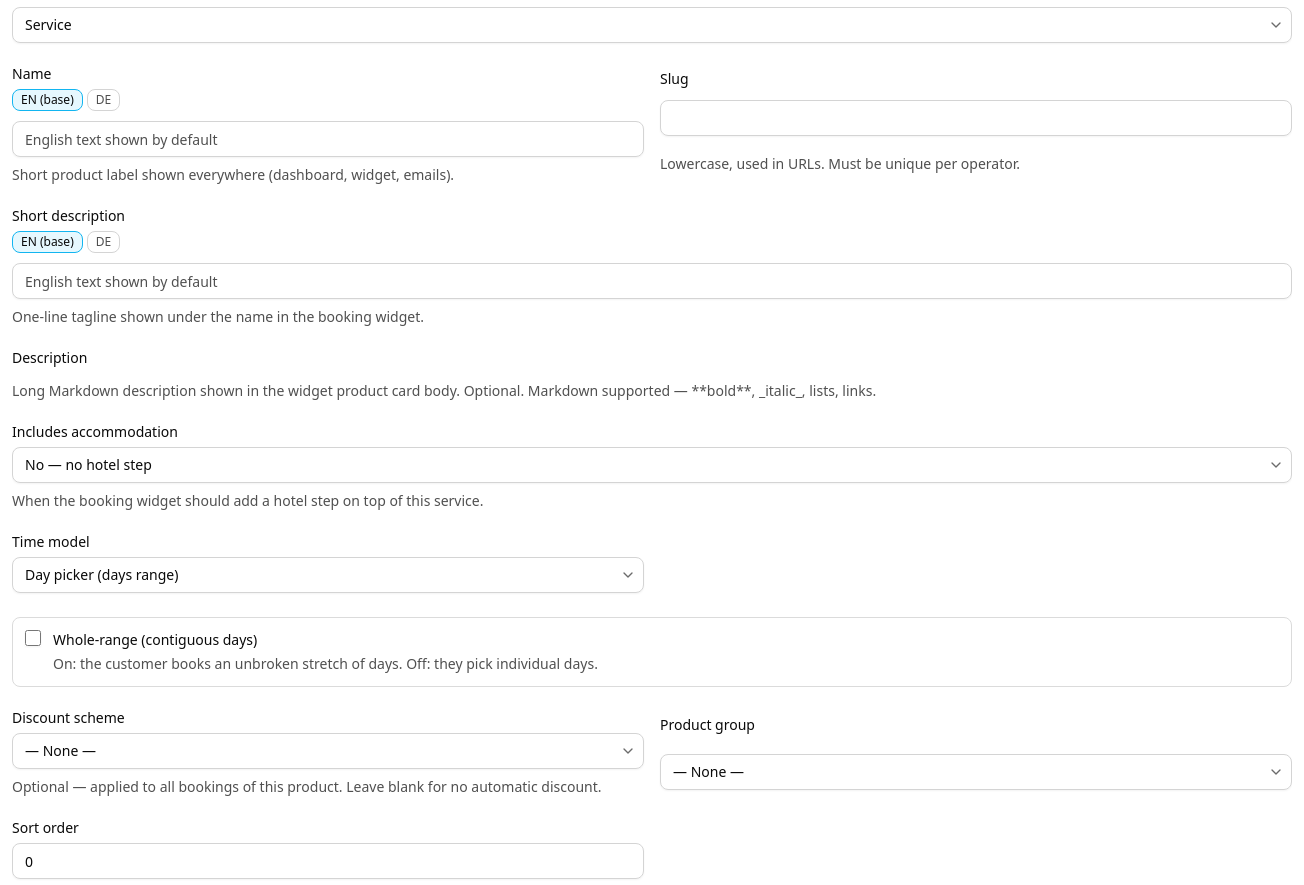
Test: ProductForm — package gating (landr-5eb) › renders the "Coming soon" placeholder for non-service kinds
Select "Gift card" in the dropdown labelled "Product kind" at point(652, 25), box x1=12 y1=7 x2=1292 y2=43
(page scrolled)
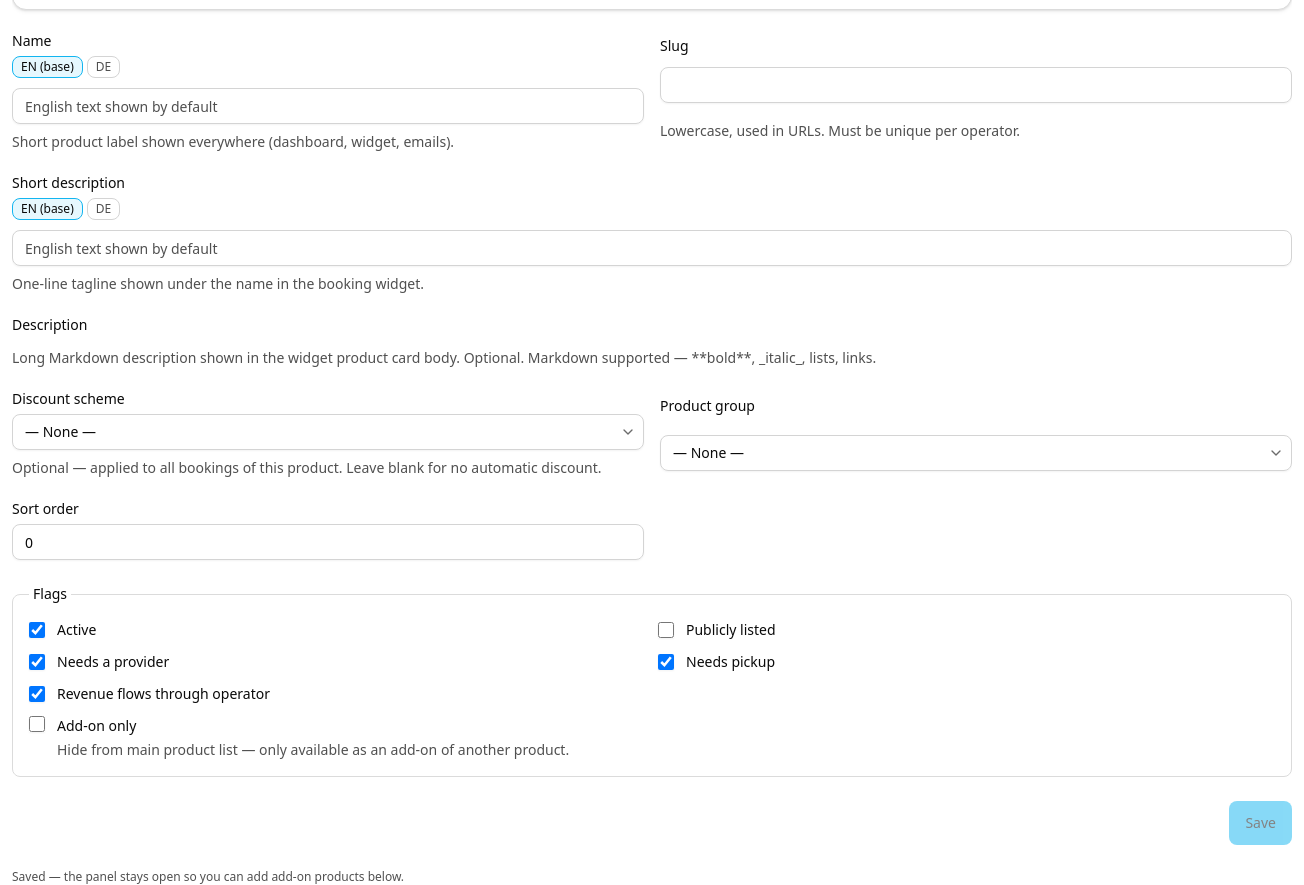
expect the button "Save" is disabled: met, box x1=1229 y1=801 x2=1292 y2=845
